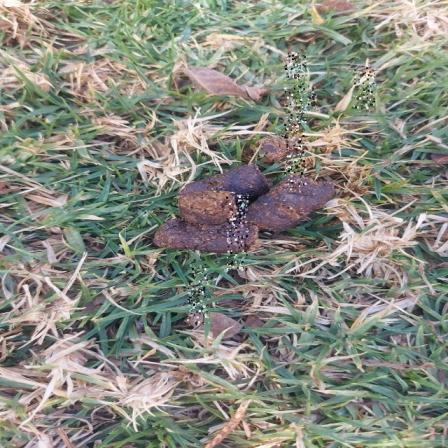dog-poop: (160, 154, 343, 264)
